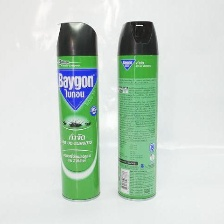aerosol_cans: (53, 19, 104, 203), (112, 18, 160, 203)
